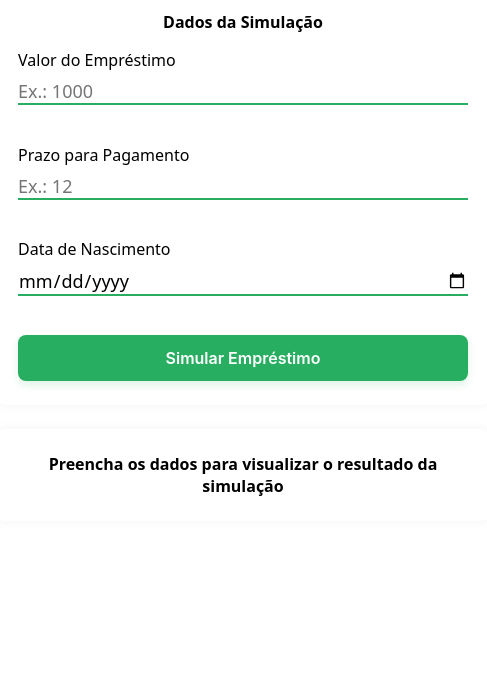
Scenario: Loan Simulation - Integration test › when the form receives correct data, the result should be displayed on the screen
Type "20000" into the number field with test id "loan-value-input" at [243, 92], box x1=18 y1=79 x2=468 y2=105
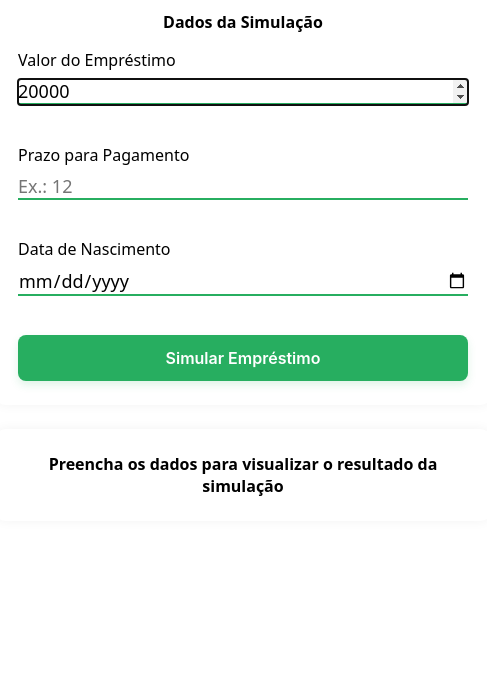
Type "12" into the number field with test id "payment-deadline-input" at [243, 186], box x1=18 y1=174 x2=468 y2=200
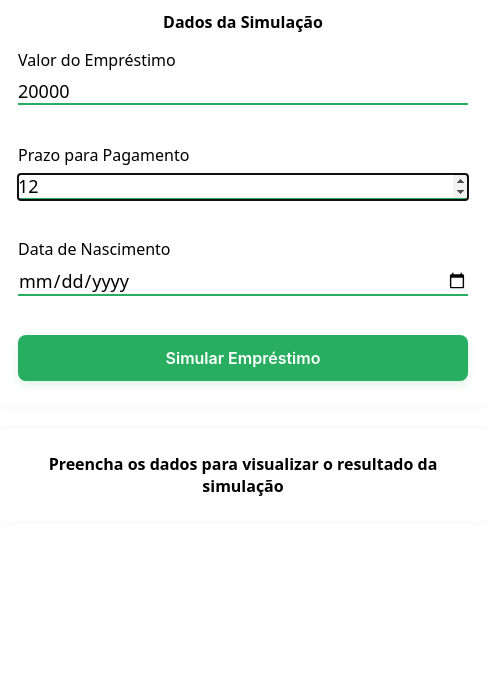
Type "2001-02-28" into the date field with test id "birthdate-input" at [243, 282], box x1=18 y1=268 x2=468 y2=296
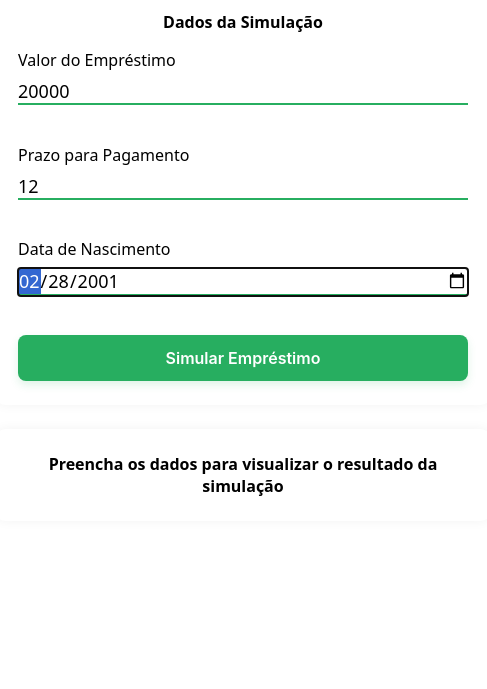
Click the button "Simular Empréstimo" at [243, 358], box x1=18 y1=334 x2=468 y2=380
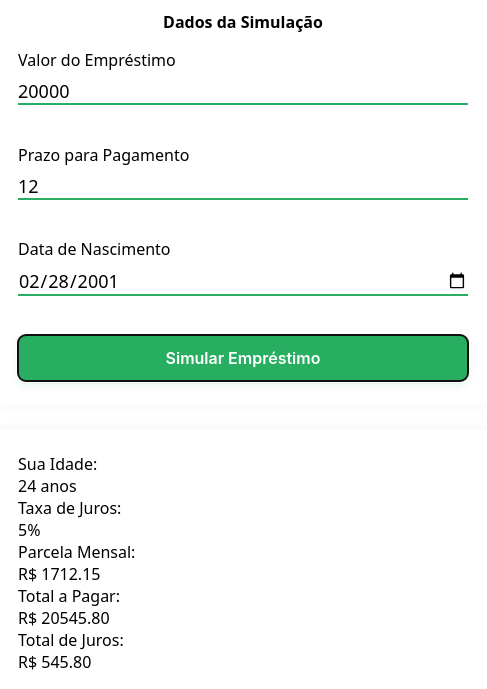
Now the text with test id "age" reads "24 anos", box x1=18 y1=474 x2=77 y2=496
Now the text with test id "interest-rate-value" reads "5%", box x1=18 y1=518 x2=40 y2=540
Now the text with test id "installment-value" reads "R$ 1712.15", box x1=18 y1=562 x2=100 y2=584
